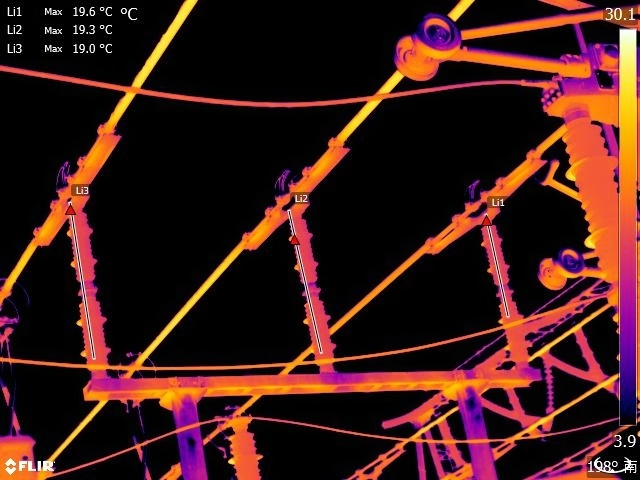insulator: (544, 349, 617, 389), (379, 390, 448, 431), (569, 322, 608, 372), (480, 395, 545, 425), (504, 383, 538, 439), (438, 413, 465, 470), (542, 355, 556, 417)
post insulator: (565, 121, 619, 319), (288, 215, 336, 363), (68, 211, 112, 369), (478, 224, 528, 360), (227, 420, 273, 480)
switch: (389, 1, 640, 103)
